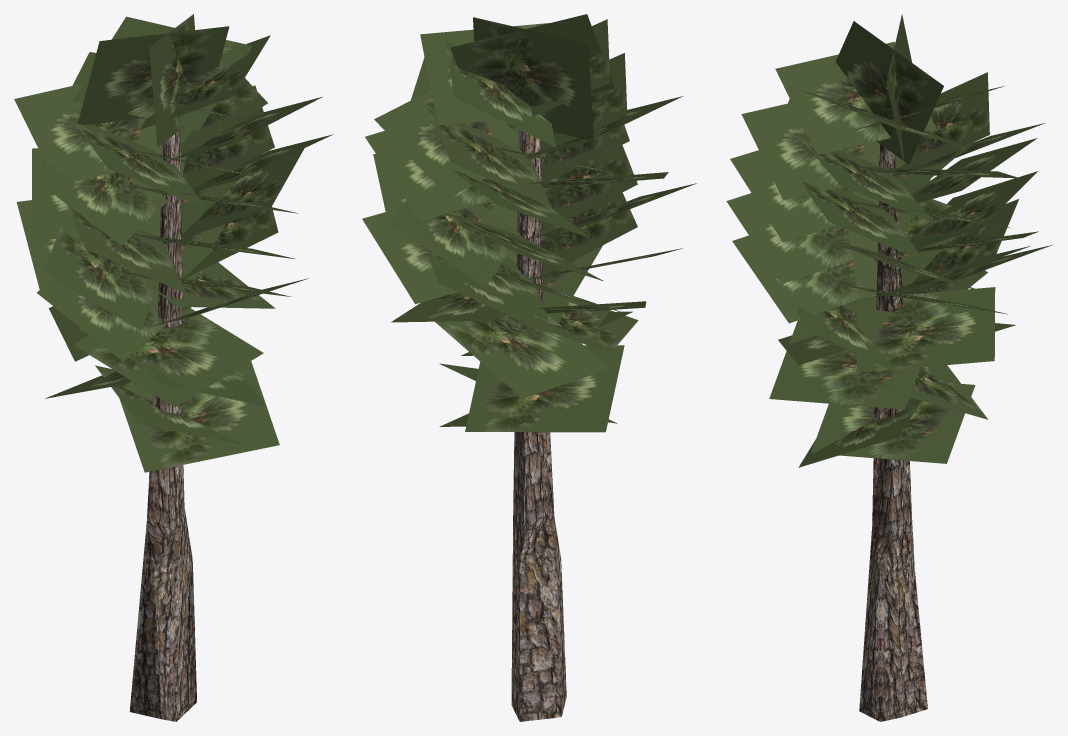
Rendered from tree.fbx.
3 views of the same model, side by side, from view 1: azimuth 30°, elevation 25°; view 2: azimuth 150°, elevation 25°; view 3: azimuth 270°, elevation 25° (orthographic). The views are drawn at different scales.
Visible parts, largest first — view 1: tree; view 2: tree; view 3: tree.
Part boxes in pixels (x1,y1,x2,y2): tree: (14,14,333,721); tree: (362,14,696,721); tree: (726,14,1052,721).
Bounding box in the file's own units: 20.46 × 46.63 × 20.38.
2 materials, 2 textured.
